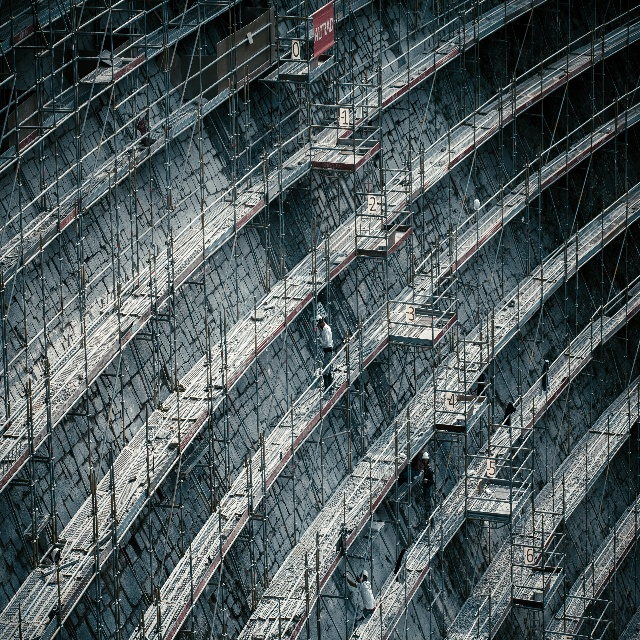Gafas: (423, 458, 428, 464)
Guantes: (355, 575, 360, 582)
